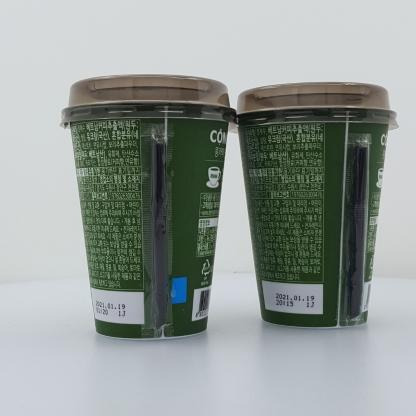---------: (59, 74, 239, 340), (228, 81, 399, 328)
